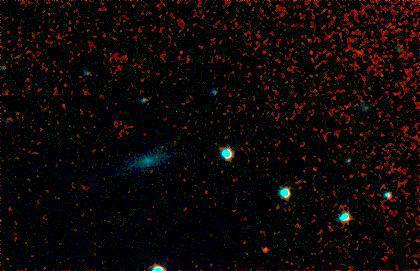star: (248, 234, 278, 264)
